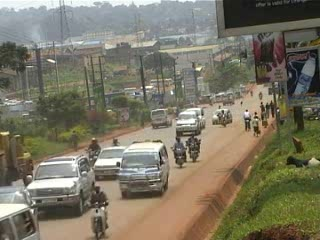Car: (23, 152, 97, 216), (0, 181, 40, 226), (93, 143, 134, 181), (172, 109, 203, 136), (186, 104, 207, 129)
Motorcycle: (83, 184, 115, 238), (169, 136, 188, 168), (81, 135, 101, 163), (184, 133, 201, 163), (216, 107, 229, 127), (108, 135, 123, 149), (257, 87, 265, 101)
